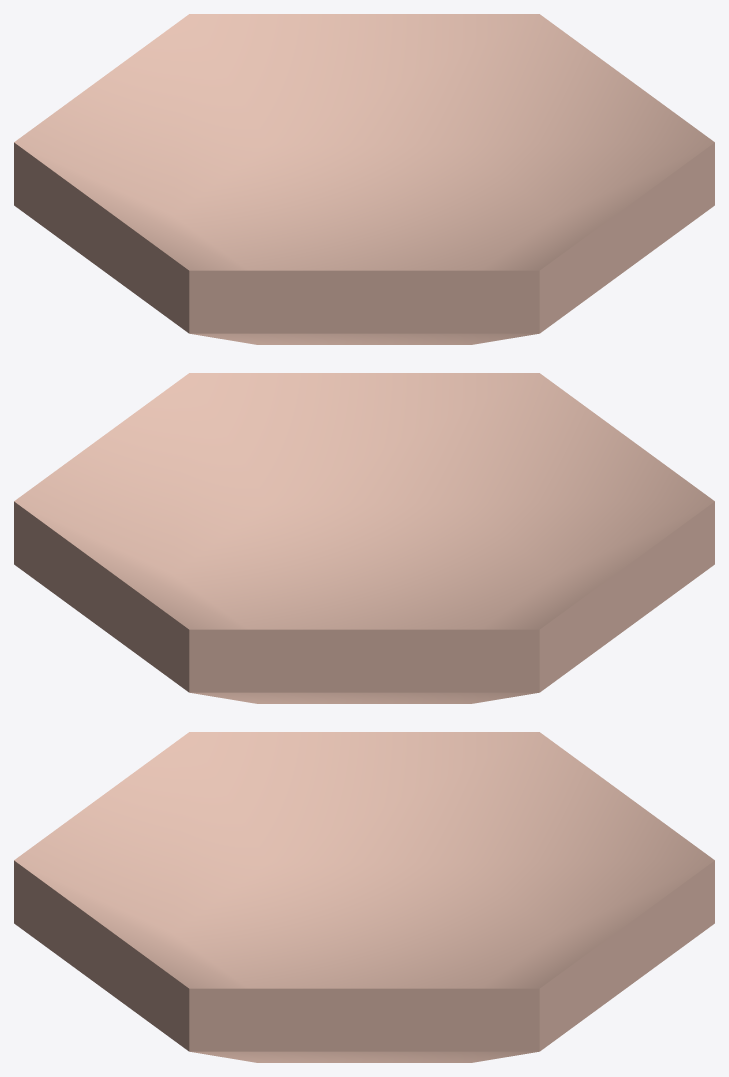
Rendered from prato_medio_pacote.glb.
3 views of the same model, one above another, from view 1: azimuth 30°, elevation 25°; view 2: azimuth 150°, elevation 25°; view 3: azimuth 270°, elevation 25° (orthographic).
Parts seen in each view (by area): view 1: prato_medio_pacote; view 2: prato_medio_pacote; view 3: prato_medio_pacote.
Part boxes in pixels (box(x1,y1,x2,y2)): prato_medio_pacote: box(14, 14, 714, 344); prato_medio_pacote: box(14, 373, 714, 703); prato_medio_pacote: box(14, 732, 714, 1062).
Bounding box in the file's own units: 0.2442 × 0.055 × 0.282.
Materials: 1 (1 with a texture image).
